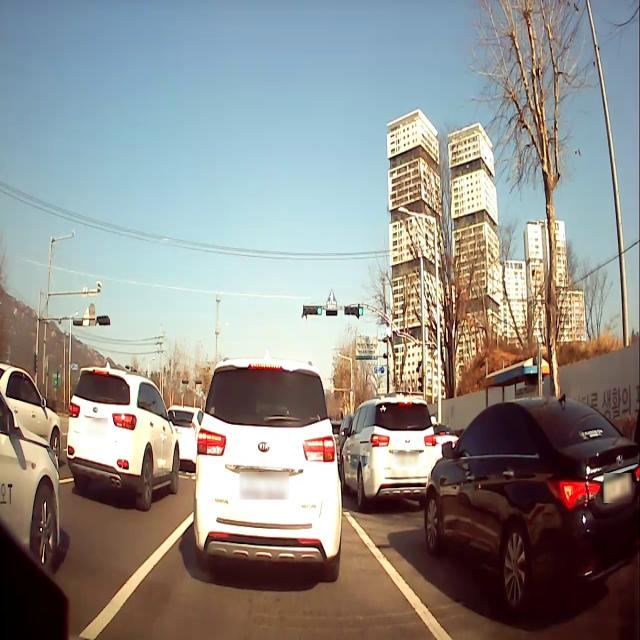Green Light: (357, 306, 364, 316), (316, 305, 322, 316)
